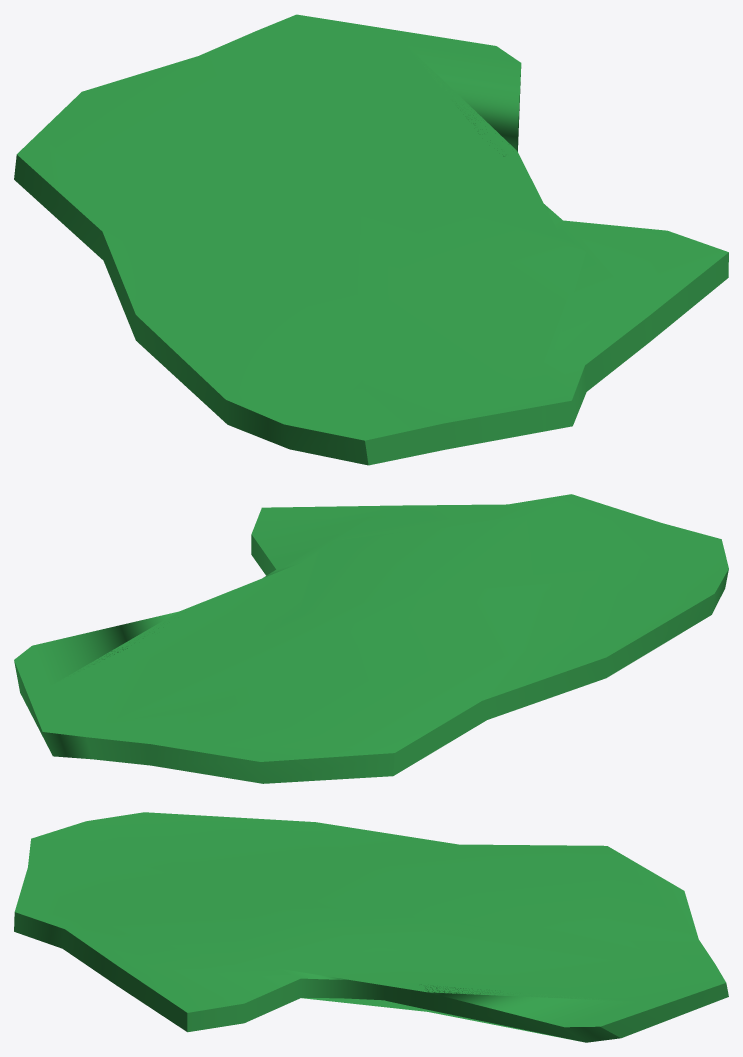
Rendered from food.fbx.
3 renders of one model, top to bottom at view 1: azimuth 30°, elevation 25°; view 2: azimuth 150°, elevation 25°; view 3: azimuth 270°, elevation 25°, orthographic. The views are drawn at different scales.
Visible parts, largest first — view 1: pCube1; view 2: pCube1; view 3: pCube1.
Part boxes in pixels (x1,y1,x2,y2): pCube1: (14, 14, 728, 465); pCube1: (14, 494, 728, 783); pCube1: (14, 812, 728, 1042).
Bounding box in the file's own units: 32.38 × 2.13 × 45.96.
